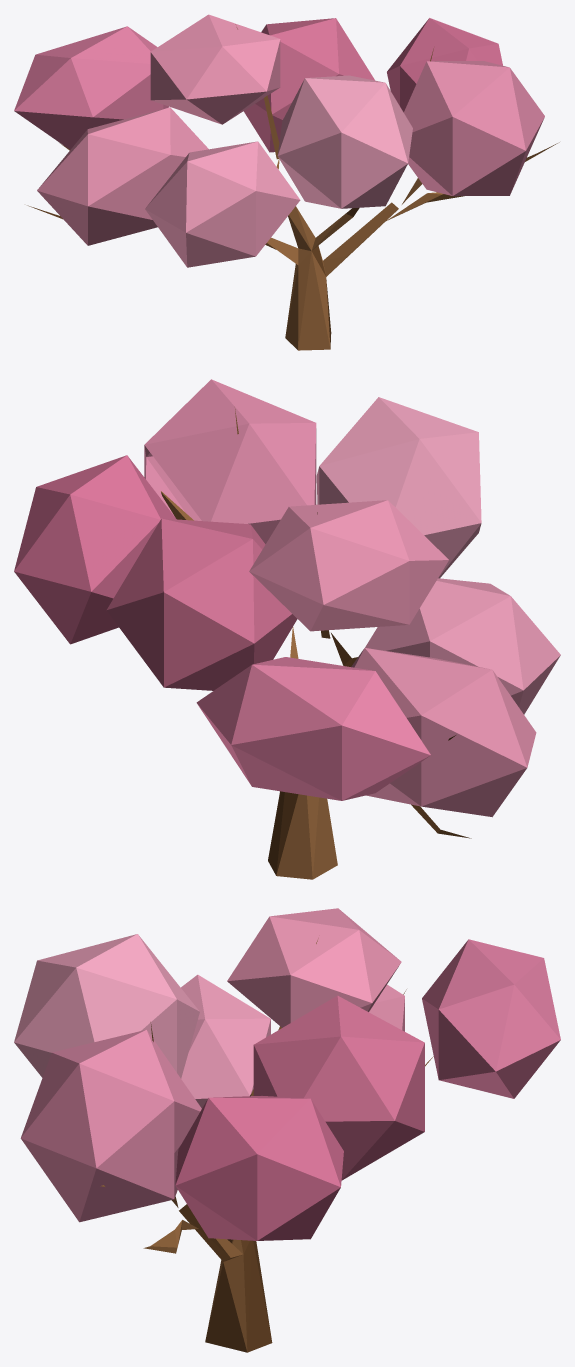
File: cherry_var_bloom_far.glb
3 renders of one model, top to bottom at view 1: azimuth 30°, elevation 25°; view 2: azimuth 150°, elevation 25°; view 3: azimuth 270°, elevation 25°, orthographic. The views are drawn at different scales.
Parts seen in each view (by area): view 1: cherry_var_bloom_far; view 2: cherry_var_bloom_far; view 3: cherry_var_bloom_far.
Boxes of the visible parts, <box> form: cherry_var_bloom_far: <box>14,14,559,350</box>; cherry_var_bloom_far: <box>14,379,560,879</box>; cherry_var_bloom_far: <box>14,908,560,1352</box>.
Bounding box in the file's own units: 9.07 × 6.09 × 8.02.
